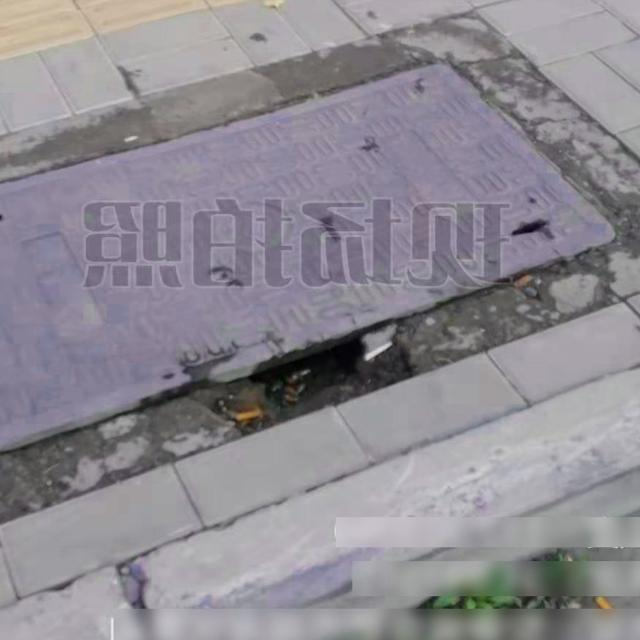circle: (0, 11, 640, 493)
